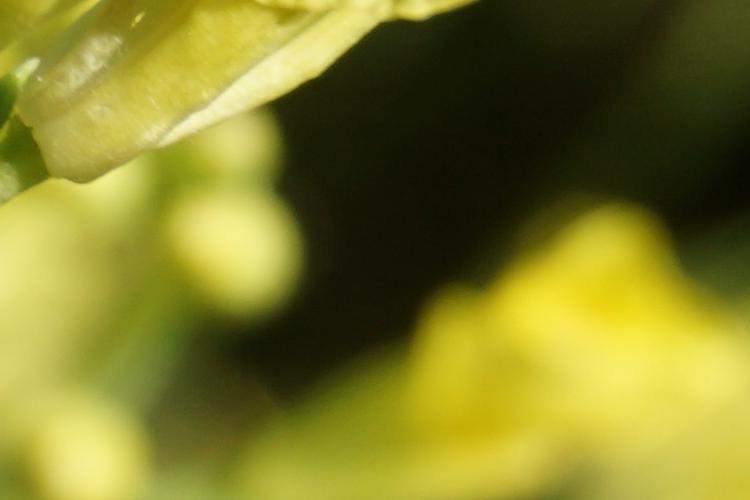yellow: (18, 10, 406, 167)
